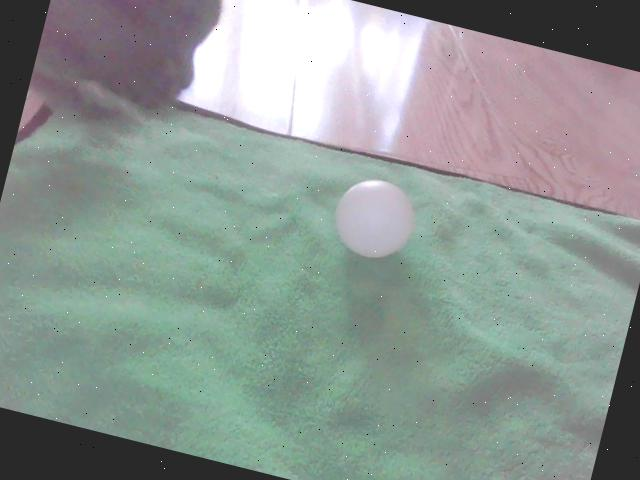ball: (326, 175, 422, 266)
